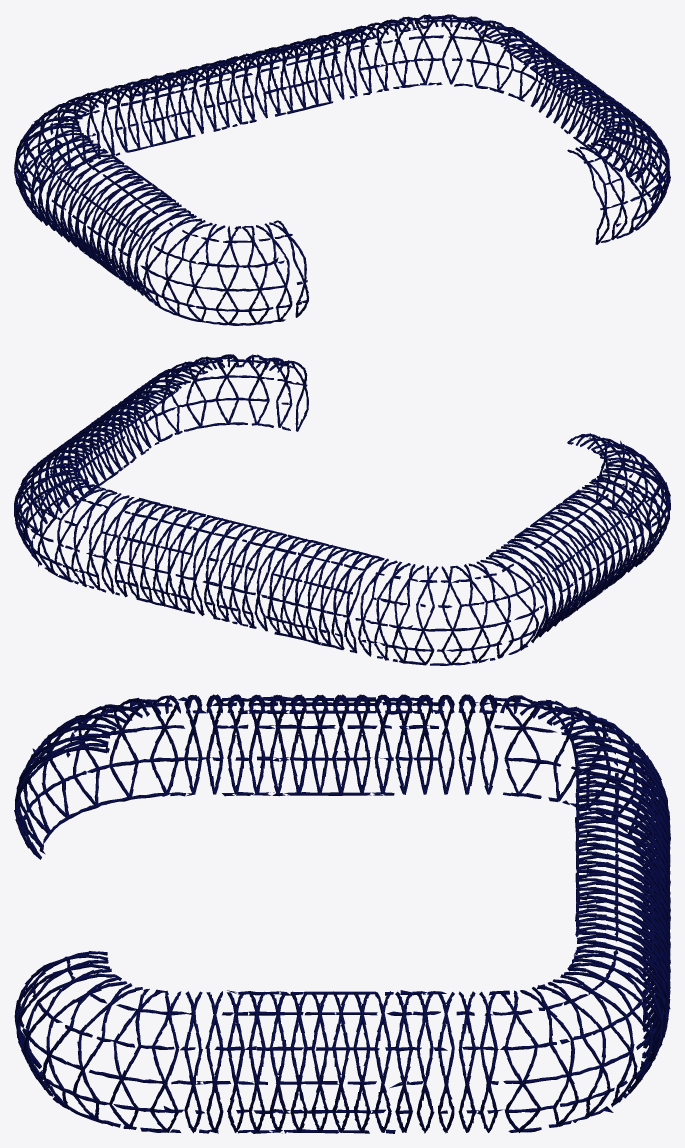
File: Al_Nasar_Football_Stadium_Vert_003.FBX
3 renders of one model, top to bottom at view 1: azimuth 30°, elevation 25°; view 2: azimuth 150°, elevation 25°; view 3: azimuth 270°, elevation 25°, orthographic. The views are drawn at different scales.
Parts seen in each view (by area): view 1: Al_Nasar_Football_Stadium_Vert_003; view 2: Al_Nasar_Football_Stadium_Vert_003; view 3: Al_Nasar_Football_Stadium_Vert_003.
Boxes of the visible parts, x1,y1,x2,y2 form: Al_Nasar_Football_Stadium_Vert_003: (14,14,670,325); Al_Nasar_Football_Stadium_Vert_003: (14,354,670,665); Al_Nasar_Football_Stadium_Vert_003: (14,694,670,1133).
Size of the model in its own units: 25737 by 19843 by 4011.
